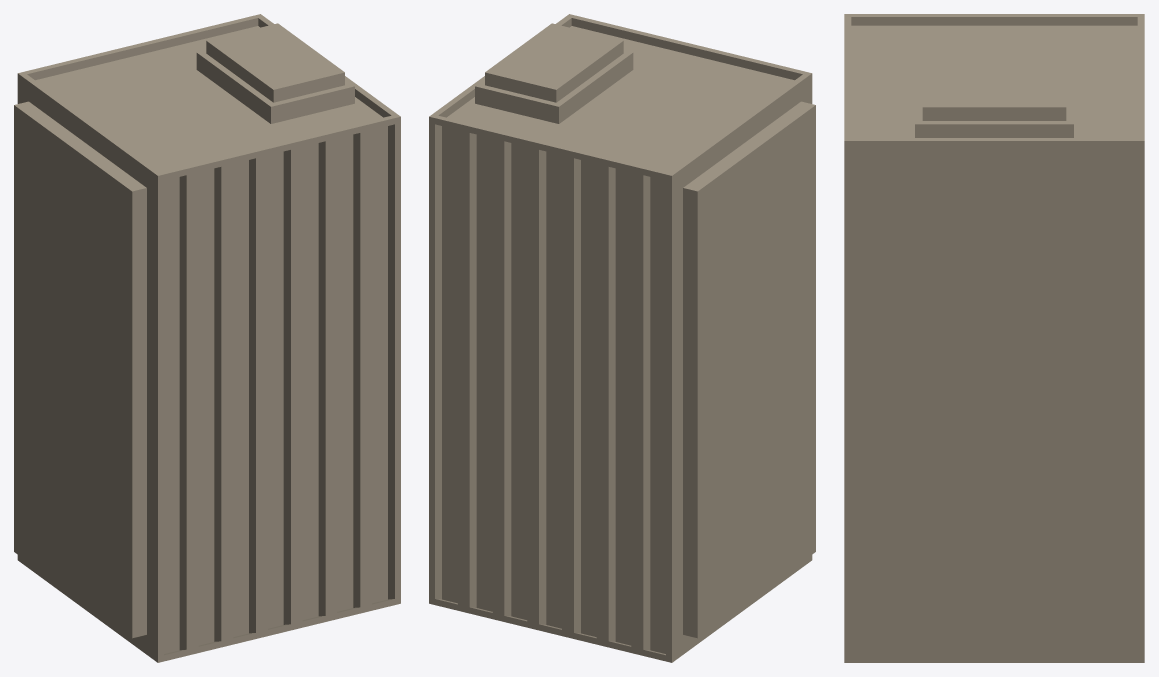
The model's file is Building F.fbx.
3 renders of one model, left to right at view 1: azimuth 30°, elevation 25°; view 2: azimuth 150°, elevation 25°; view 3: azimuth 270°, elevation 25°, orthographic. The views are drawn at different scales.
Visible parts, largest first — view 1: Highrise_2; view 2: Highrise_2; view 3: Highrise_2.
Part boxes in pixels (x1,y1,x2,y2): Highrise_2: [14, 14, 400, 662]; Highrise_2: [429, 14, 815, 662]; Highrise_2: [844, 14, 1144, 662].
Size of the model in its own units: 212 by 401 by 200.
